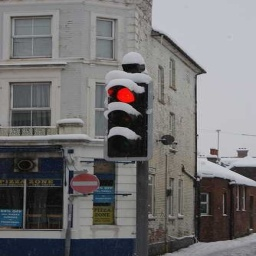traffic light: (103, 70, 152, 161)
